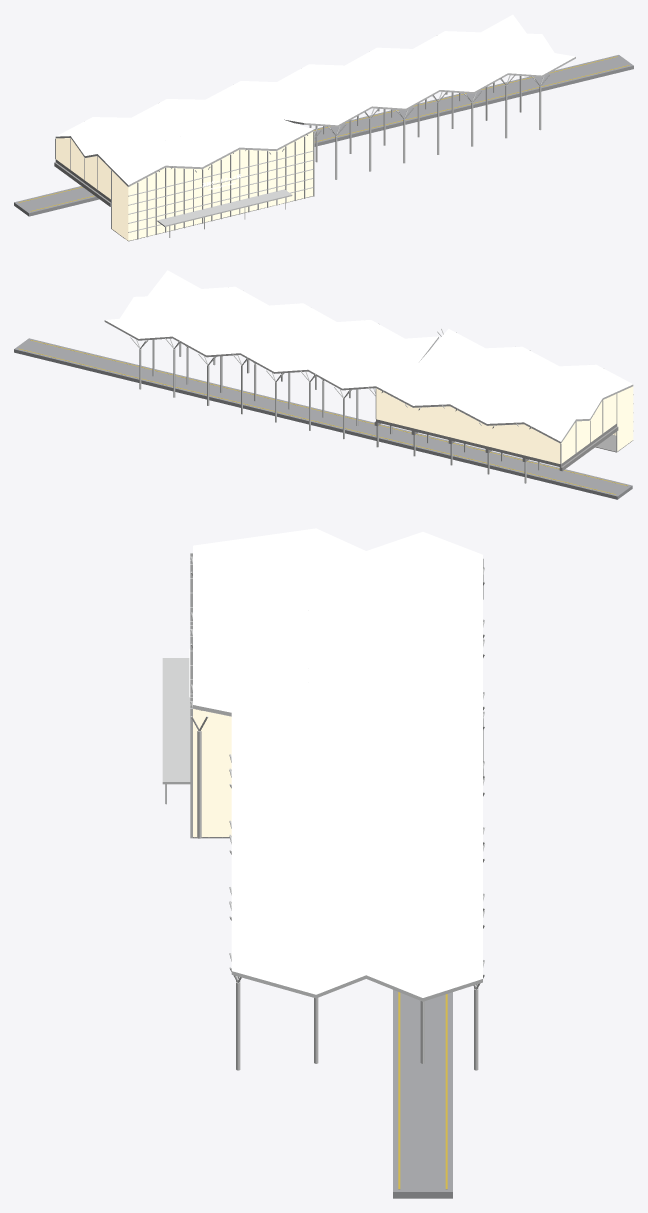
File: takanawa_gateway.glb
3 views of the same model, one above another, from view 1: azimuth 30°, elevation 25°; view 2: azimuth 150°, elevation 25°; view 3: azimuth 270°, elevation 25° (orthographic). The views are drawn at different scales.
Visible parts, largest first — view 1: TG_Roof, TG_Glass, TG_Platform, TG_Columns, TG_Canopy, TG_Concourse; view 2: TG_Roof, TG_Platform, TG_Glass, TG_Columns, TG_Concourse; view 3: TG_Roof, TG_Platform, TG_Glass, TG_Canopy, TG_Columns.
Part boxes in pixels (bbox=[...]): TG_Roof: bbox=[55, 14, 575, 186]; TG_Glass: bbox=[55, 131, 314, 240]; TG_Platform: bbox=[14, 55, 633, 216]; TG_Columns: bbox=[158, 35, 549, 179]; TG_Canopy: bbox=[157, 189, 292, 237]; TG_Concourse: bbox=[54, 149, 312, 241]; TG_Roof: bbox=[104, 270, 633, 443]; TG_Platform: bbox=[14, 338, 632, 499]; TG_Glass: bbox=[375, 386, 633, 464]; TG_Columns: bbox=[130, 287, 604, 483]; TG_Concourse: bbox=[374, 401, 633, 471]; TG_Roof: bbox=[193, 528, 482, 1001]; TG_Platform: bbox=[393, 990, 452, 1198]; TG_Glass: bbox=[190, 553, 483, 838]; TG_Canopy: bbox=[162, 658, 190, 804]; TG_Columns: bbox=[190, 557, 484, 1070].
Size of the model in its own units: 209 by 22.05 by 48.33.
